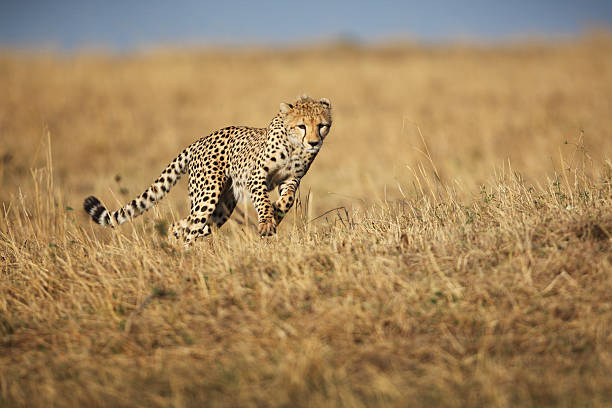cheetah: (272, 90, 337, 165)
